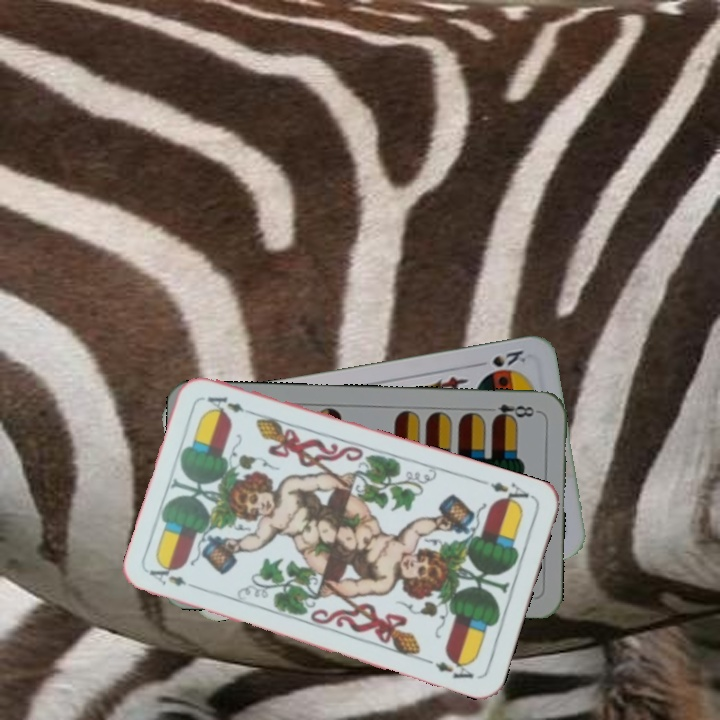E8: (489, 400, 541, 423)
EA: (145, 562, 203, 593), (486, 478, 536, 510)
SK: (478, 346, 529, 377)
